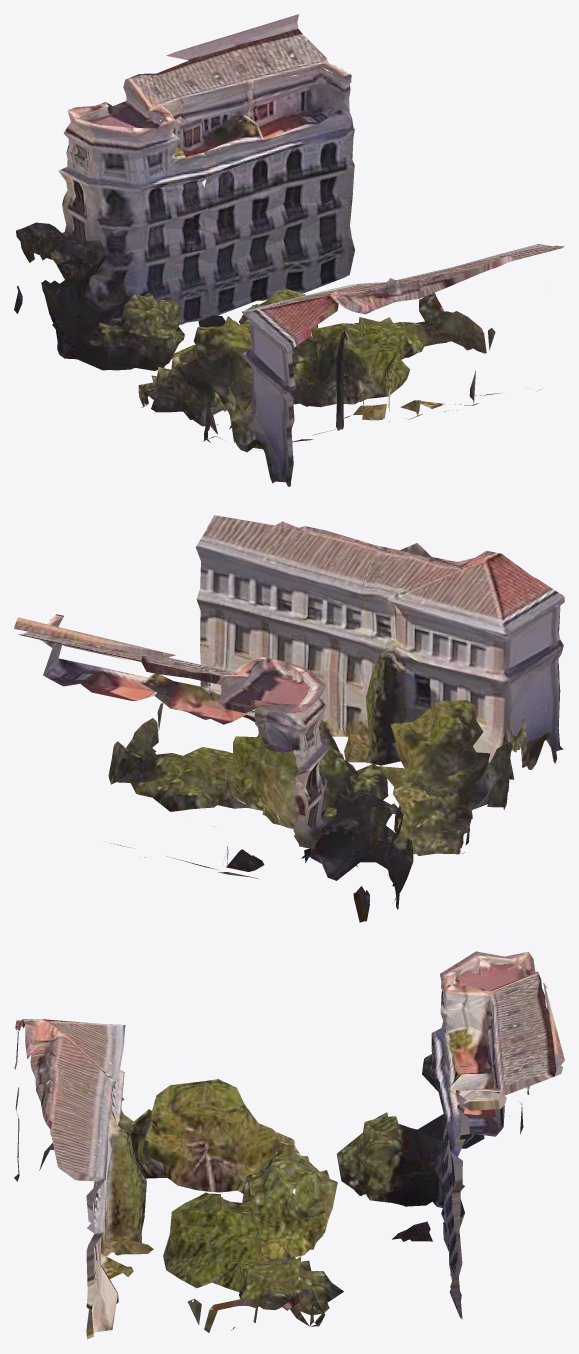
The picture shows the model from 3 angles, top to bottom: view 1: azimuth 30°, elevation 25°; view 2: azimuth 150°, elevation 25°; view 3: azimuth 270°, elevation 25°; orthographic projection. The views are drawn at different scales.
Visible parts, largest first — view 1: Mesh_0; view 2: Mesh_0; view 3: Mesh_0.
Part boxes in pixels (x1,y1,x2,y2): Mesh_0: (14, 14, 564, 486); Mesh_0: (14, 515, 564, 922); Mesh_0: (14, 951, 564, 1339).
Size of the model in its own units: 33.35 by 22.15 by 41.37.
2 materials, 2 textured.
